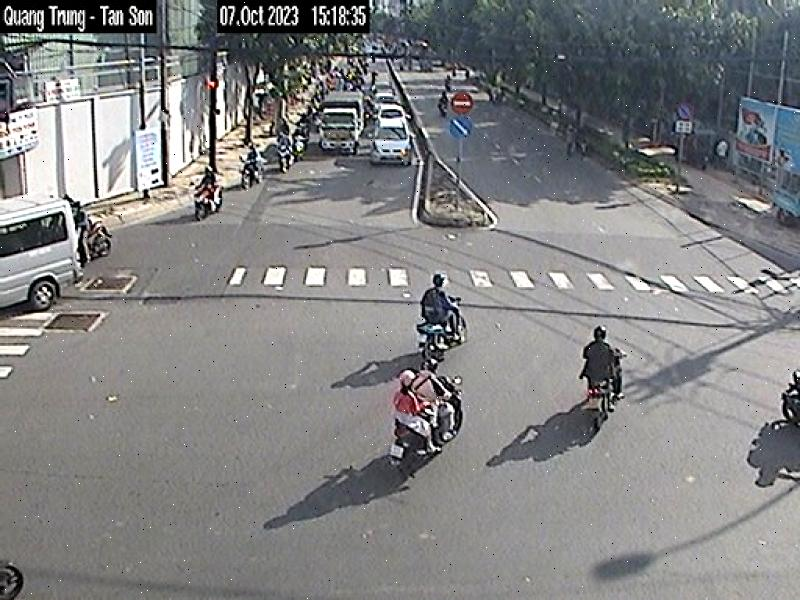car: (0, 191, 89, 315), (370, 118, 416, 170)
motorcycle: (382, 376, 470, 469), (415, 296, 472, 363), (586, 350, 628, 440), (777, 364, 800, 431), (77, 219, 120, 254), (194, 184, 223, 223), (0, 554, 21, 599), (240, 159, 263, 188)
truck: (321, 89, 366, 154)
